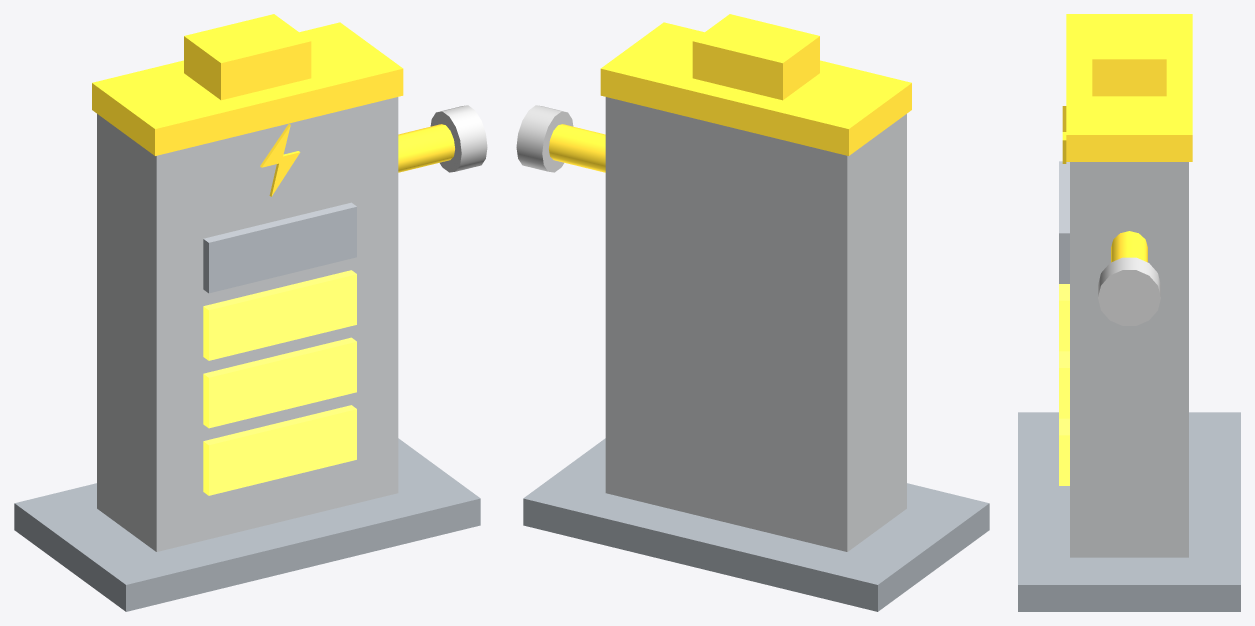
Rendered from Battery-home.glb.
The picture shows the model from 3 angles, left to right: view 1: azimuth 30°, elevation 25°; view 2: azimuth 150°, elevation 25°; view 3: azimuth 270°, elevation 25°; orthographic projection.
Visible parts, largest first — view 1: cabinet, level_segment (×4), plinth, band, terminal, terminal_cap, terminal_stub, badge_bolt; view 2: cabinet, plinth, band, terminal, terminal_cap, terminal_stub; view 3: cabinet, plinth, band, terminal, terminal_cap, level_segment (×4), terminal_stub.
Part boxes in pixels (x1,y1,x2,y2): cabinet: (97, 97, 398, 551); level_segment (×4): (203, 202, 356, 495); plinth: (14, 438, 480, 611); band: (92, 22, 403, 155); terminal: (184, 14, 311, 100); terminal_cap: (430, 105, 487, 172); terminal_stub: (398, 124, 454, 172); badge_bolt: (260, 124, 300, 196); cabinet: (605, 97, 906, 551); plinth: (523, 438, 989, 611); band: (600, 22, 911, 155); terminal: (692, 14, 819, 100); terminal_cap: (516, 105, 573, 172); terminal_stub: (549, 124, 605, 172); cabinet: (1070, 162, 1188, 557); plinth: (1018, 412, 1240, 611); band: (1066, 14, 1192, 161); terminal: (1092, 15, 1166, 96); terminal_cap: (1098, 257, 1160, 325); level_segment (×4): (1059, 161, 1069, 485); terminal_stub: (1111, 231, 1147, 262).
Bounding box in the file's own units: 1.25 × 1.45 × 0.6.
